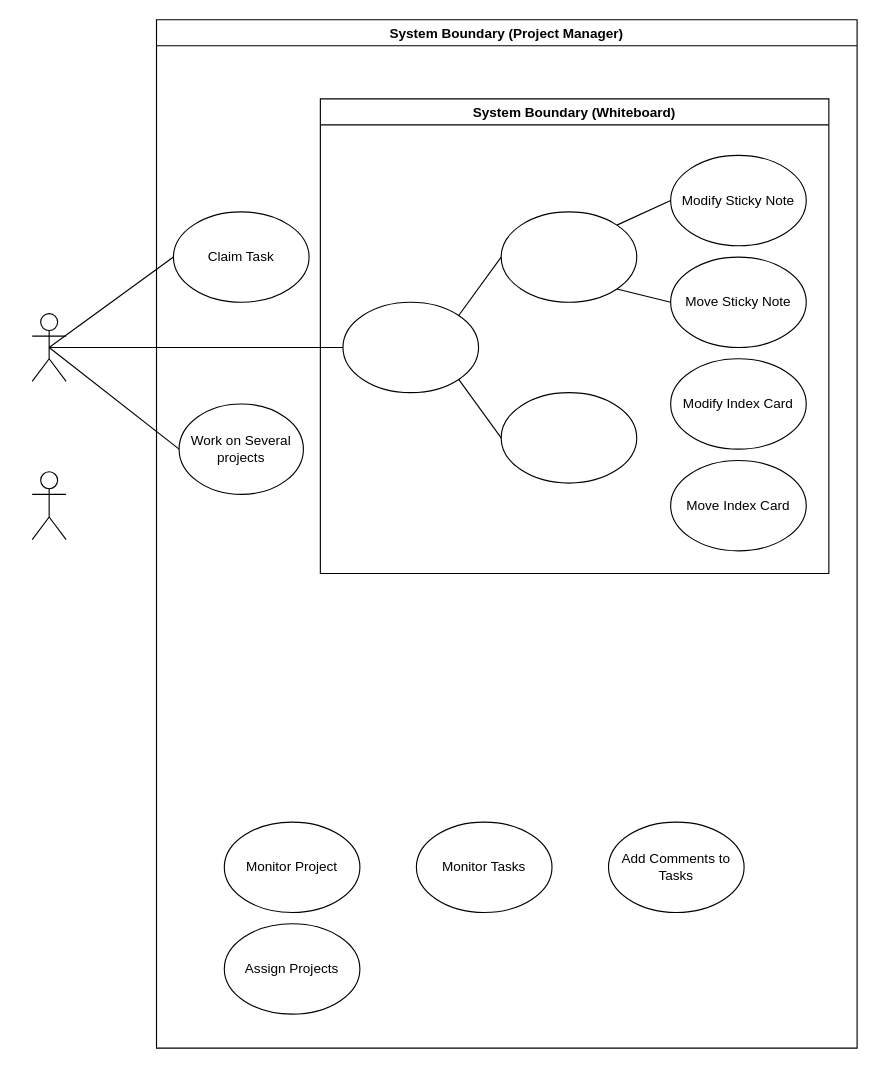
Image size: 877x1068. Some labels were removed from this diagram. The shapes that lost their labels are listed below. From the top down, each one's centre as x and y in pixels, then its label:
the point at 568,256: Create Sticky Note
the point at 48,346: Employee
the point at 410,347: View Whiteboard
the point at 568,437: Create Index Card
the point at 48,505: Manager
